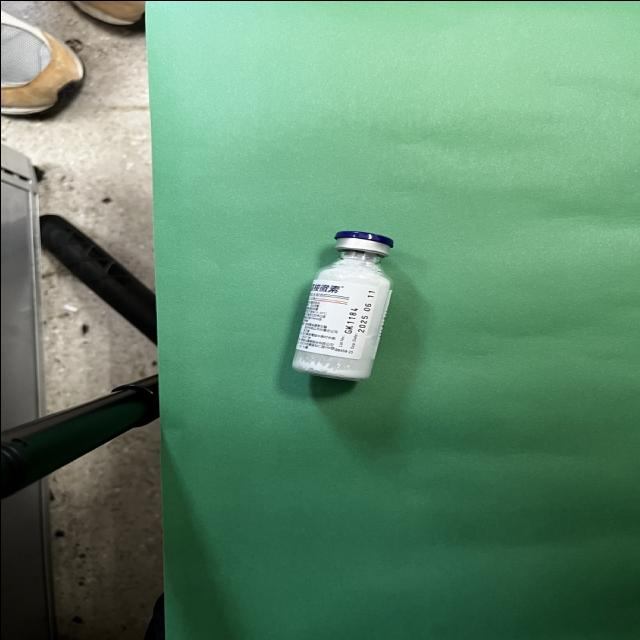Vials: (291, 230, 391, 380)
